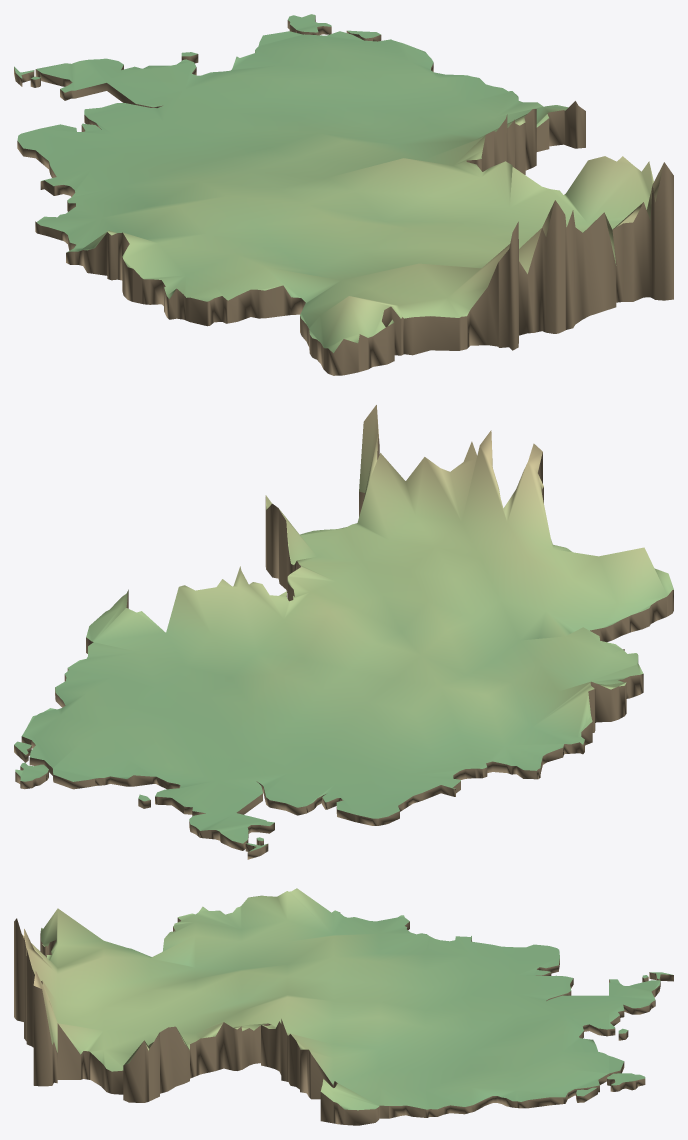
The model's file is DEU.glb.
The picture shows the model from 3 angles, top to bottom: view 1: azimuth 30°, elevation 25°; view 2: azimuth 150°, elevation 25°; view 3: azimuth 270°, elevation 25°; orthographic projection. The views are drawn at different scales.
Visible parts, largest first — view 1: DEU; view 2: DEU; view 3: DEU.
Boxes of the visible parts, x1,y1,x2,y2 form: DEU: (14, 14, 673, 375); DEU: (14, 405, 673, 859); DEU: (14, 888, 673, 1125).
Bounding box in the file's own units: 1.33 × 0.338 × 1.8.
